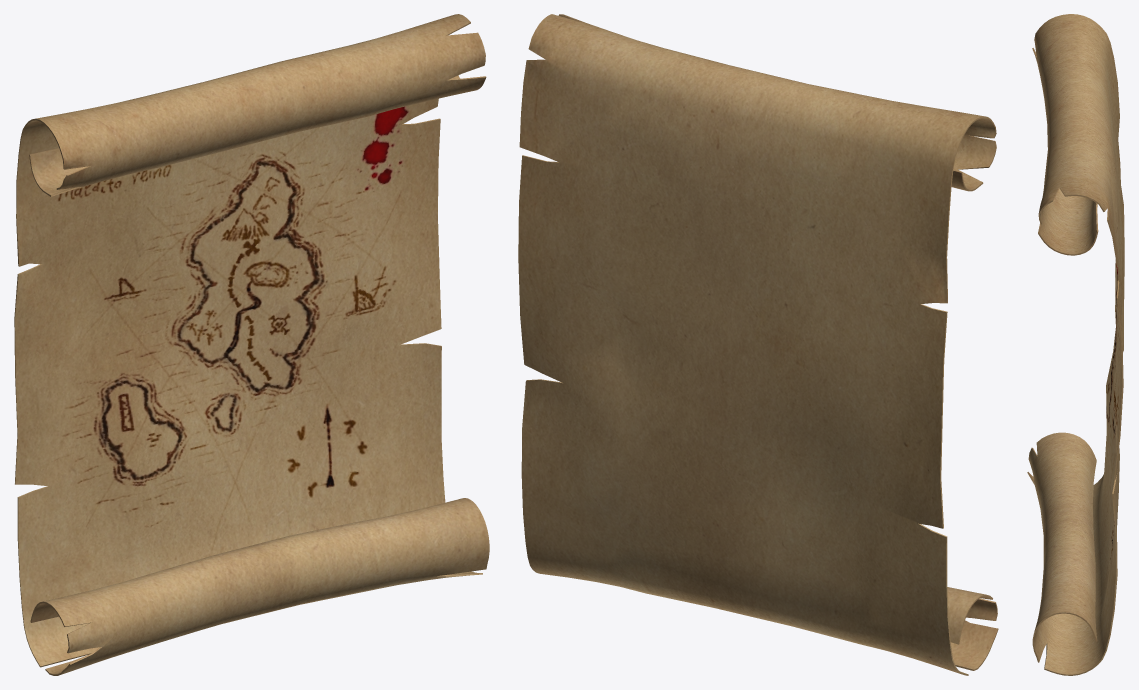
The model's file is 14059_Pirate_Treasure_map_Scroll_v1_L1.obj.
3 views of the same model, side by side, from view 1: azimuth 30°, elevation 25°; view 2: azimuth 150°, elevation 25°; view 3: azimuth 270°, elevation 25° (orthographic). The views are drawn at different scales.
Parts seen in each view (by area): view 1: map; view 2: map; view 3: map.
Boxes of the visible parts, x1,y1,x2,y2 form: map: (14,14,489,675); map: (518,14,998,675); map: (1027,14,1124,675).
Size of the model in its own units: 11.88 by 14.75 by 2.71.
Materials: 1 (1 with a texture image).
